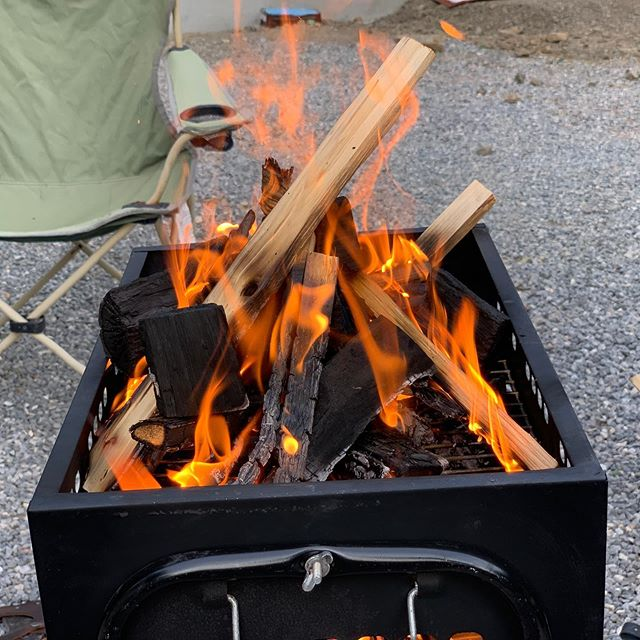chair: (1, 1, 214, 257)
fireplace: (74, 72, 579, 520)
